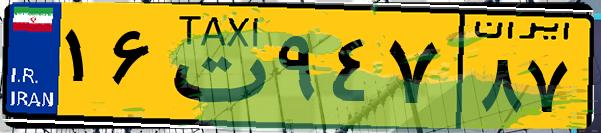1: (57, 26, 110, 100)
4: (330, 28, 385, 110)
6: (110, 28, 158, 98)
7: (385, 28, 445, 110), (525, 38, 570, 115)
8: (475, 38, 525, 113)
9: (270, 28, 330, 110)
ت: (158, 12, 270, 120)
